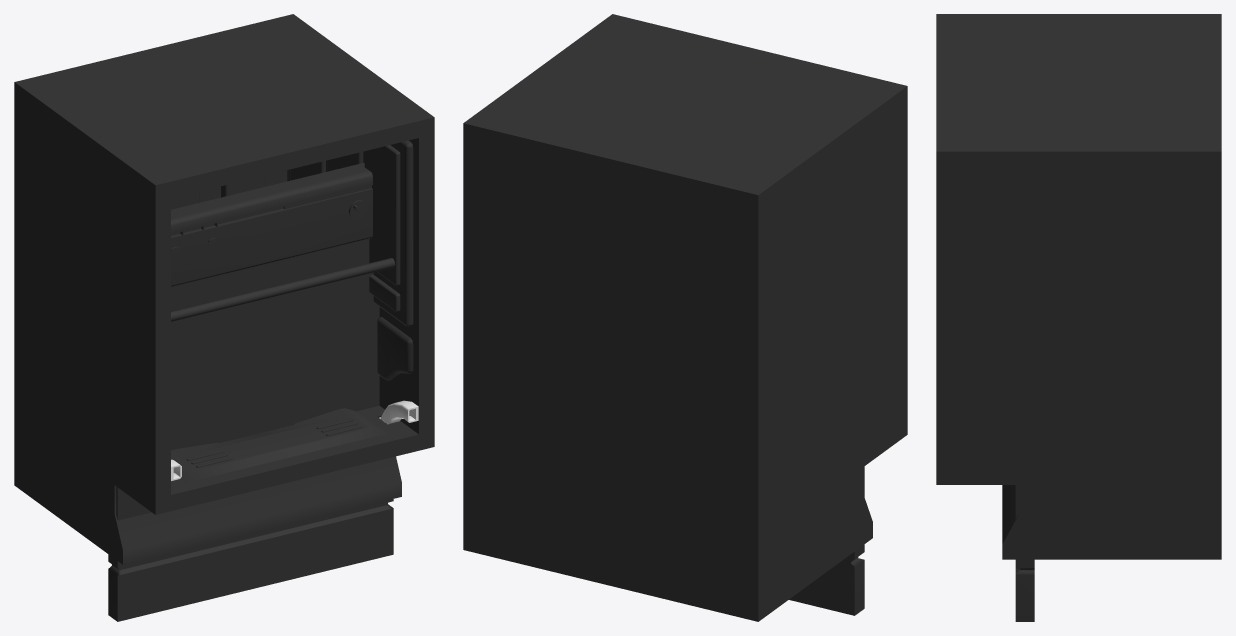
File: dishwasher_FP13.obj
3 views of the same model, side by side, from view 1: azimuth 30°, elevation 25°; view 2: azimuth 150°, elevation 25°; view 3: azimuth 270°, elevation 25° (orthographic). The views are drawn at different scales.
Parts seen in each view (by area): view 1: dishwasher_FP13, dishwasher_door_FP13; view 2: dishwasher_FP13, dishwasher_door_FP13; view 3: dishwasher_FP13, dishwasher_door_FP13.
Part boxes in pixels (left/top/right/bottom): dishwasher_FP13: left=14, top=14, right=434, bottom=564; dishwasher_door_FP13: left=108, top=163, right=395, bottom=621; dishwasher_FP13: left=463, top=14, right=907, bottom=621; dishwasher_door_FP13: left=789, top=544, right=864, bottom=615; dishwasher_FP13: left=936, top=14, right=1221, bottom=559; dishwasher_door_FP13: left=1015, top=485, right=1034, bottom=621.
Bounding box in the file's own units: 0.6342 × 1.01 × 0.5555.
